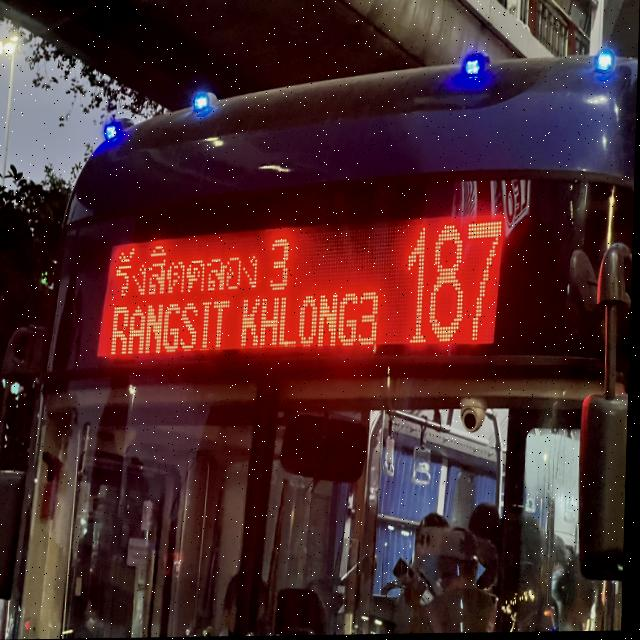Bus Line Number: (402, 207, 515, 351)
Destination Sign: (95, 225, 389, 352)
TSB-Bus: (1, 25, 639, 640)
